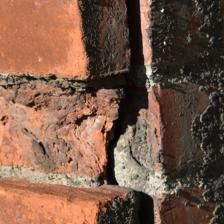Crack: (47, 42, 124, 162)
